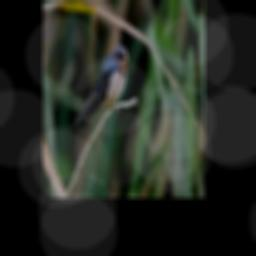Swallow: (73, 45, 128, 125)
